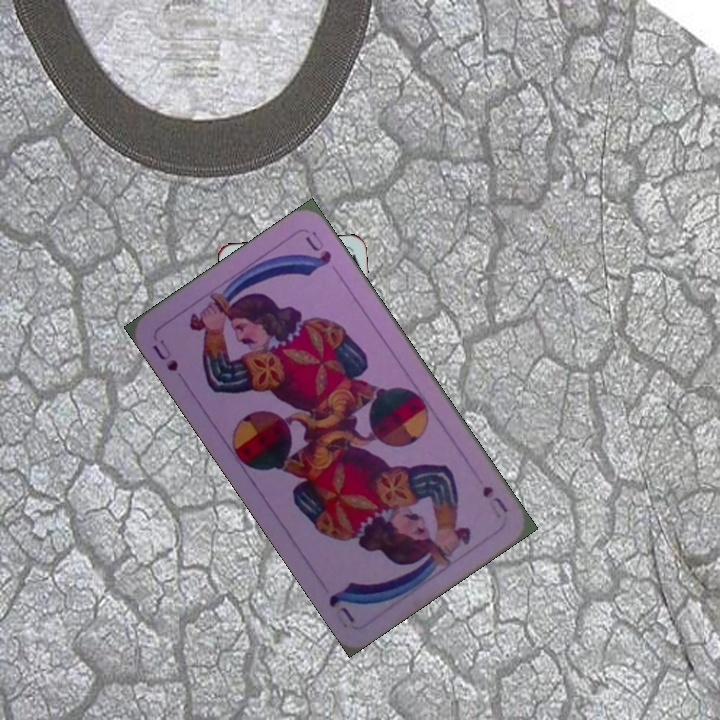SU: (478, 481, 511, 521), (148, 335, 181, 375)
